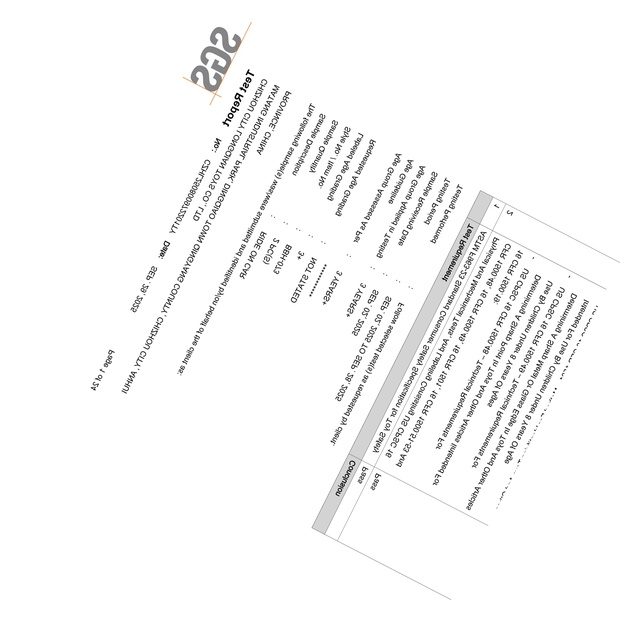sgs: (191, 25, 241, 92)
